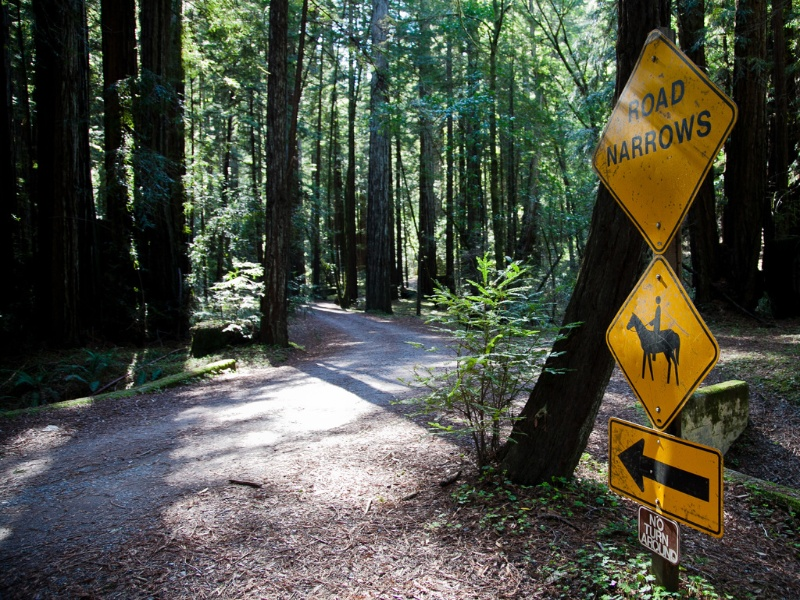equestrian crossing: (600, 248, 727, 429)
narrow_road_ahead: (589, 44, 723, 243)
